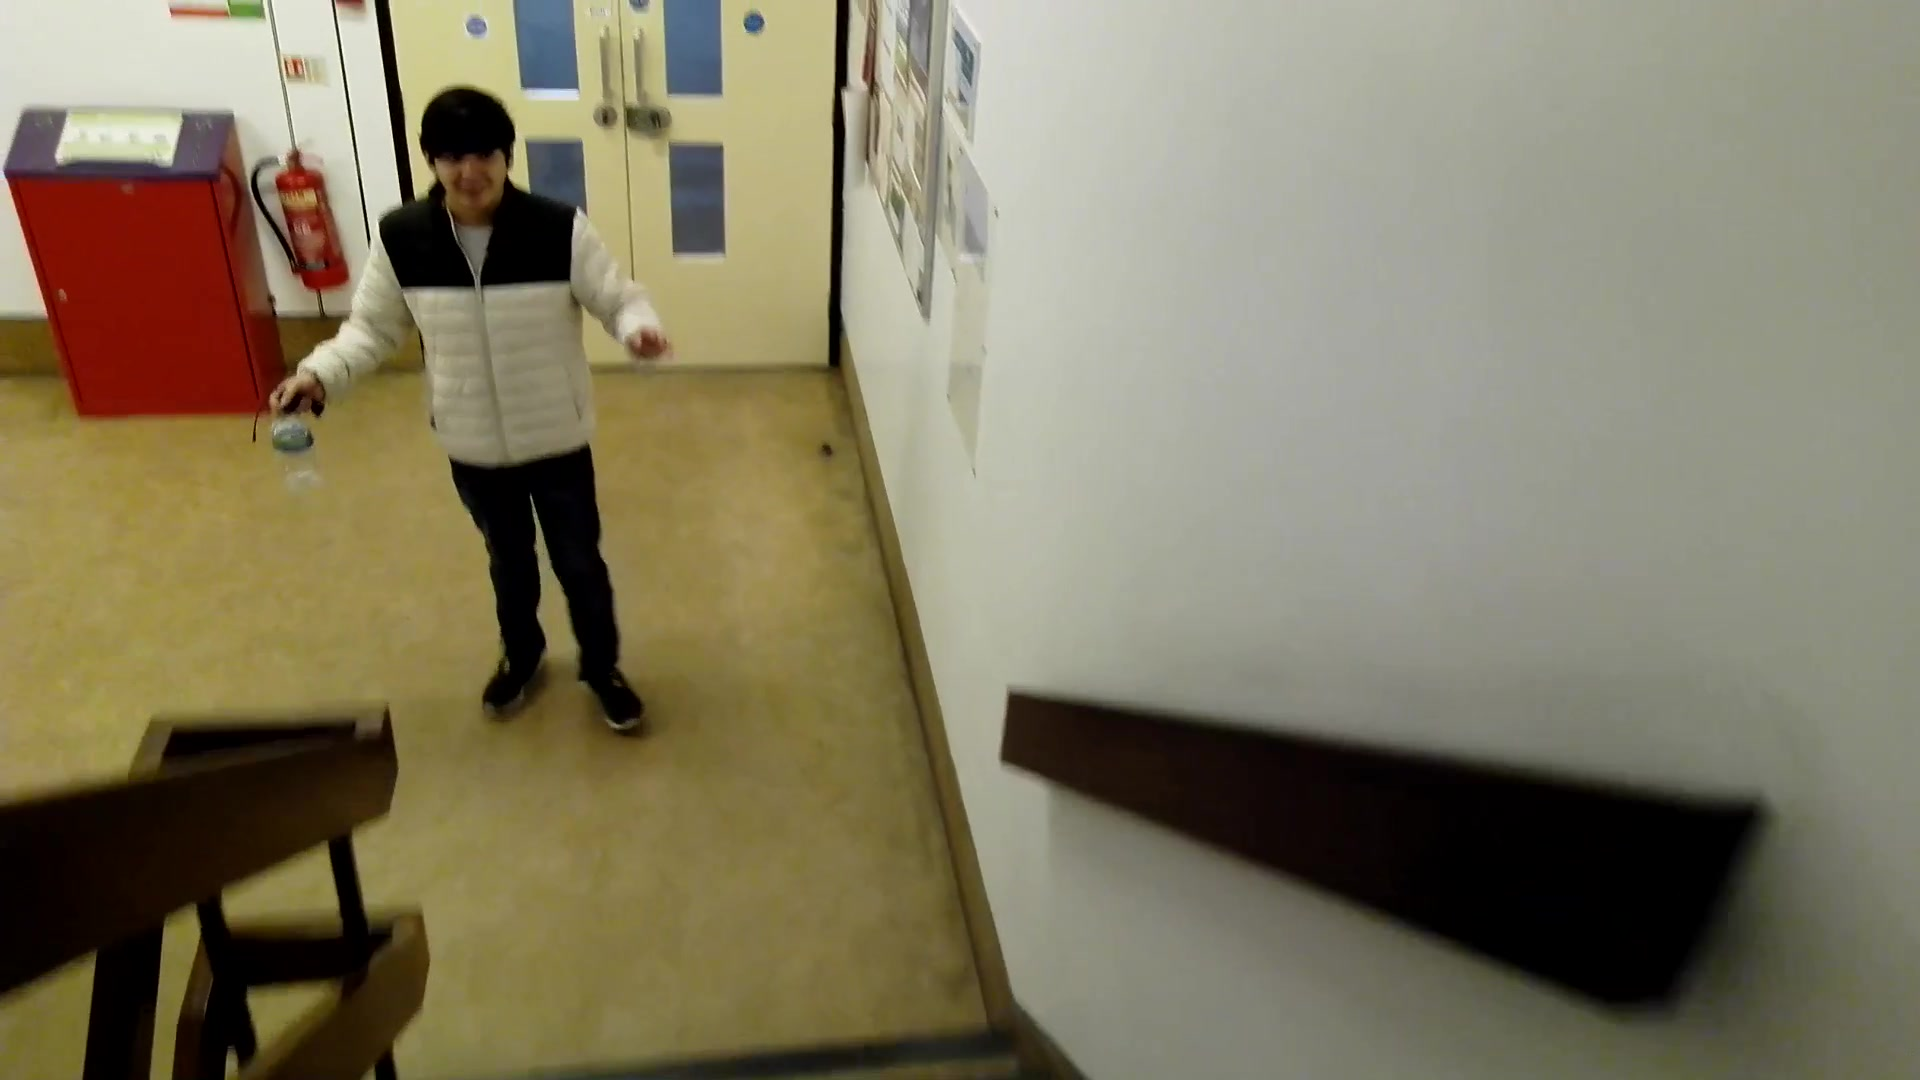Bin: (14, 102, 293, 435)
Person: (369, 86, 681, 747)
